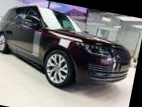car: (0, 0, 138, 99)
